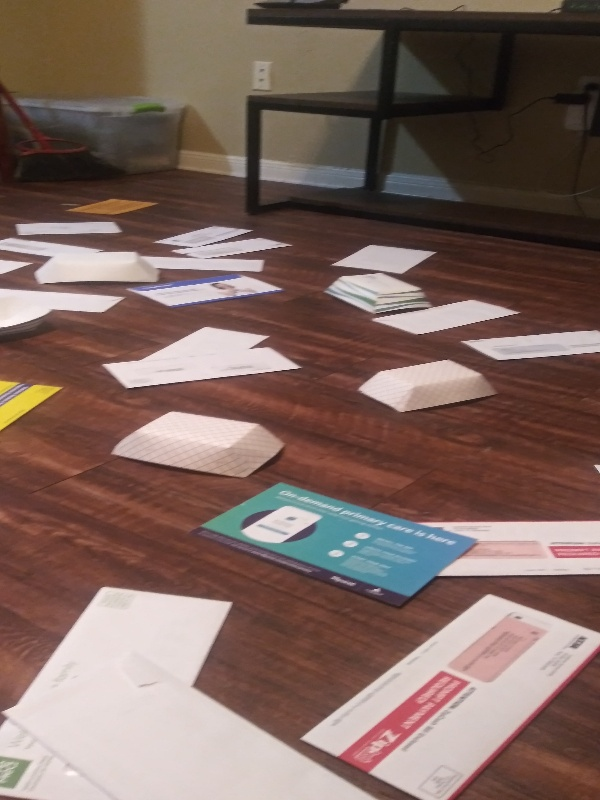plate: (109, 409, 289, 483), (355, 358, 501, 417), (315, 270, 434, 314), (31, 249, 166, 287), (1, 289, 56, 340)
